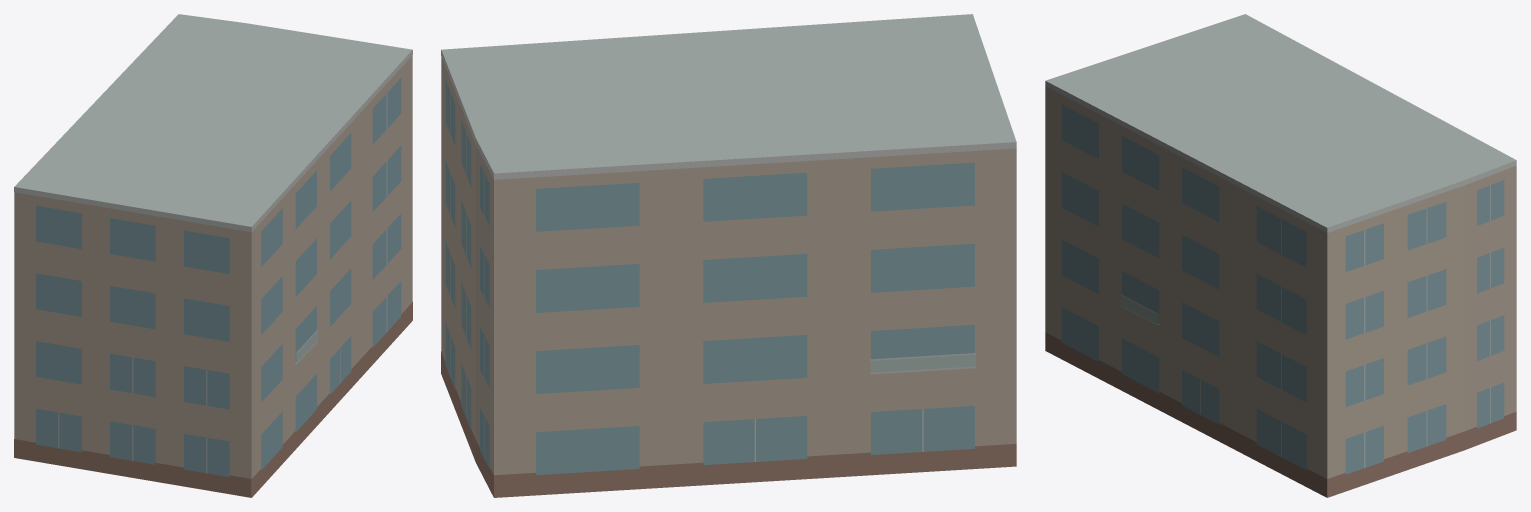
The model's file is survey-upis-32839565.glb.
3 views of the same model, side by side, from view 1: azimuth 30°, elevation 25°; view 2: azimuth 150°, elevation 25°; view 3: azimuth 270°, elevation 25° (orthographic). The views are drawn at different scales.
Visible parts, largest first — view 1: survey-upis-32839565.tmp; view 2: survey-upis-32839565.tmp; view 3: survey-upis-32839565.tmp.
Boxes of the visible parts, bbox=[...] form: survey-upis-32839565.tmp: bbox=[14, 14, 412, 497]; survey-upis-32839565.tmp: bbox=[441, 14, 1016, 497]; survey-upis-32839565.tmp: bbox=[1045, 14, 1516, 497].
Bounding box in the file's own units: 21.23 × 12.5 × 19.78.
